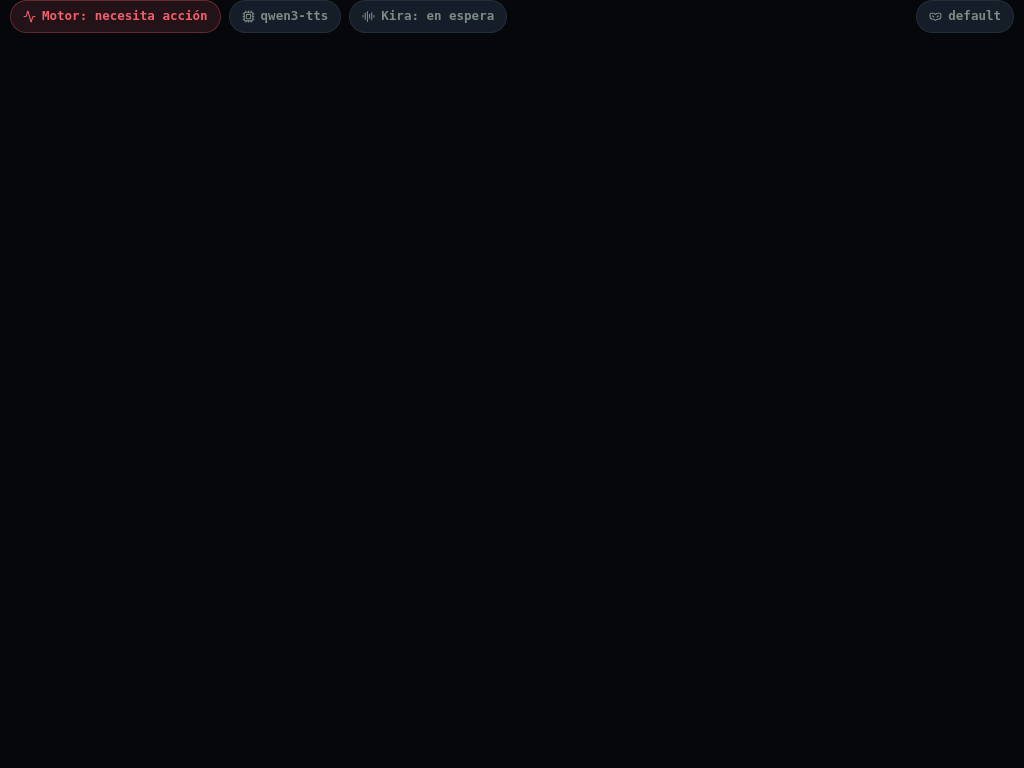
StatusRail — adjust round 2 (owner runtime feedback, 2026-07-15) › drops the parens entirely on a red rollup whose dims are all clean/unavailable (never '()')
Click the button "Motor: necesita acción" at (115, 16), box [10,0,221,33]
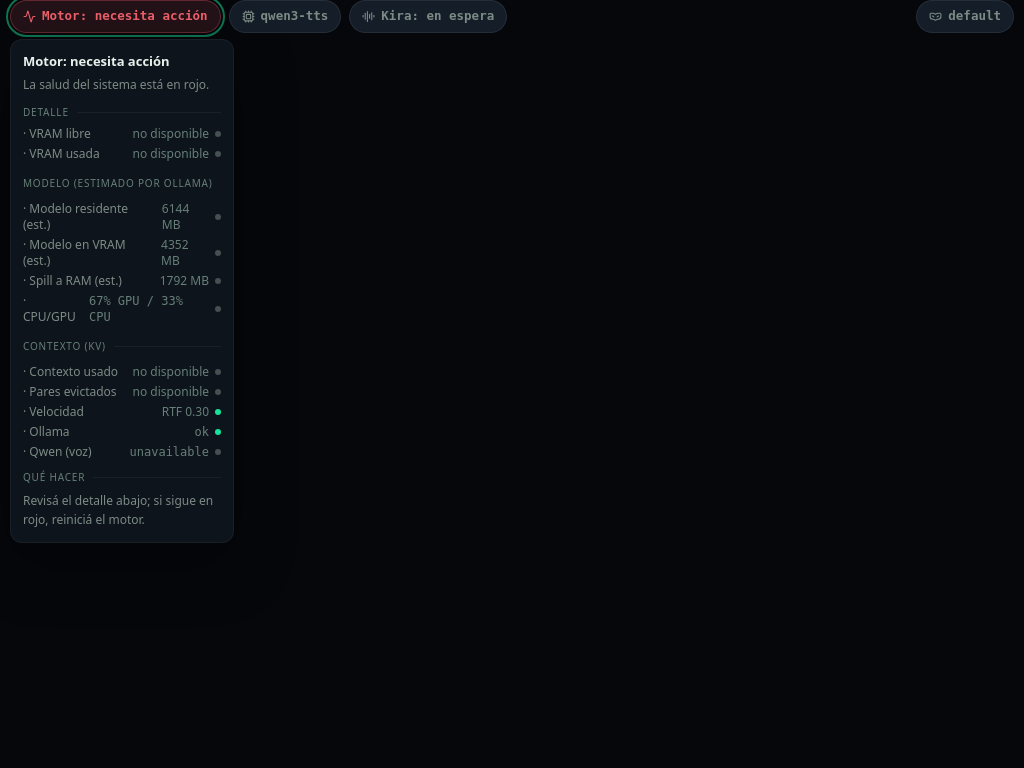
Expected: the dialog "Motor: necesita acción" does not show "()", [10,39,234,543]
Expected: the dialog "Motor: necesita acción" shows "La salud del sistema está en rojo.", [23,76,209,93]
